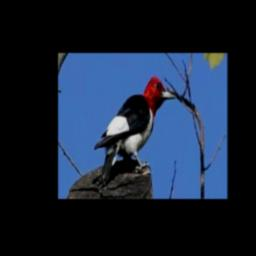Woodpecker: (95, 76, 176, 185)
